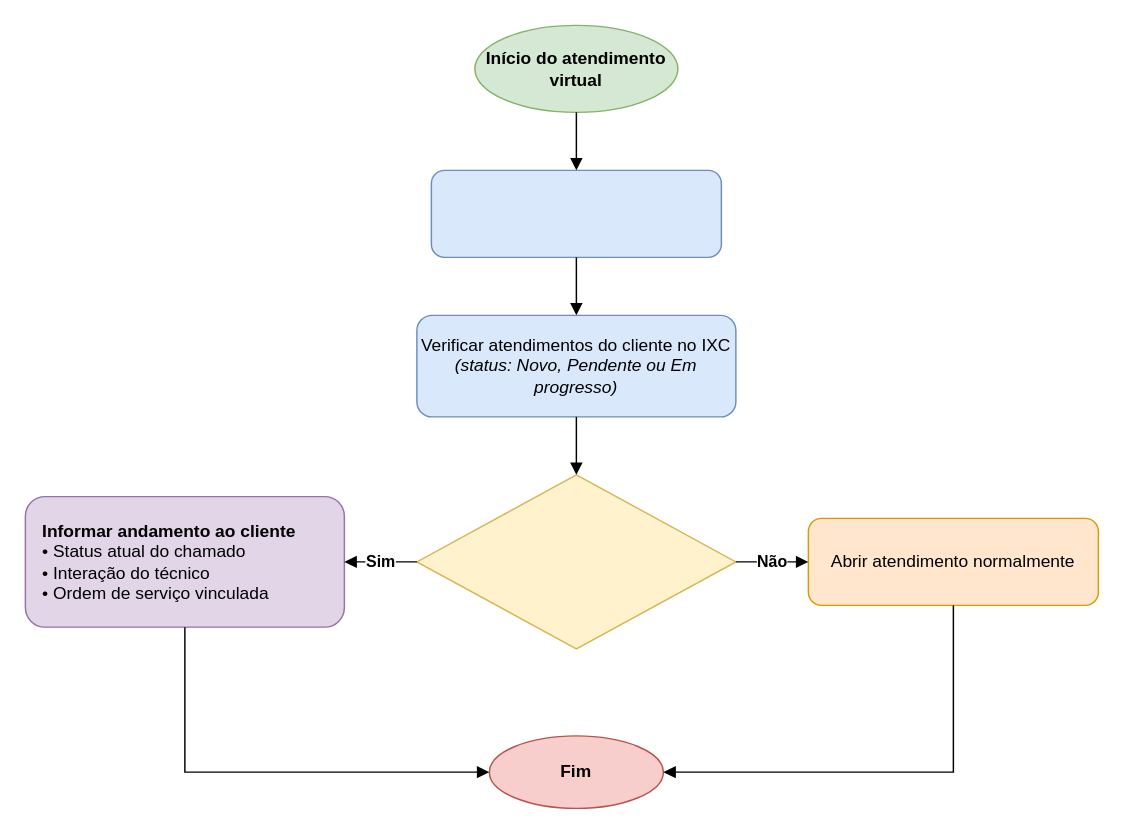
The diagram is 1124 pixels wide and 834 high, and some of its shapes have lost their labels. Here are the shapes that lost their labels. From the top down, the box of each, then its label:
(430, 169, 721, 257): Consultar cliente para obter o ID no IXC
(415, 473, 736, 649): Existe atendimento em aberto?
